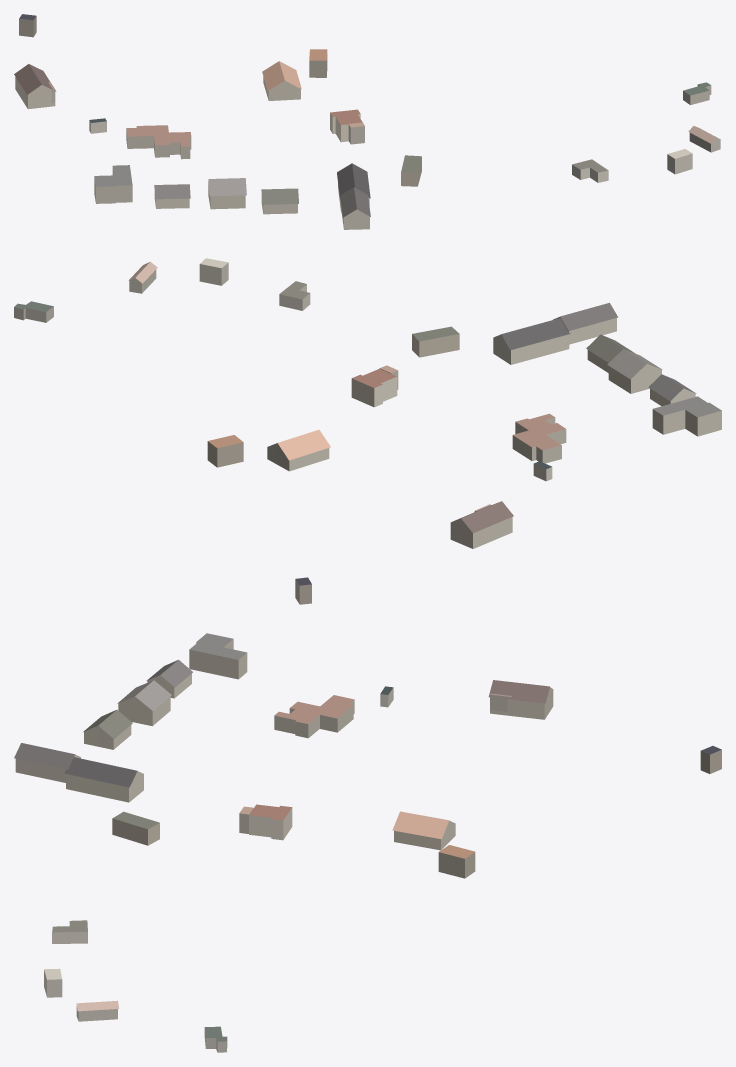
3 views of the same model, one above another, from view 1: azimuth 30°, elevation 25°; view 2: azimuth 150°, elevation 25°; view 3: azimuth 270°, elevation 25° (orthographic). The views are drawn at different scales.
Visible parts, largest first — view 1: tuile; view 2: tuile; view 3: tuile.
Boxes of the visible parts, x1=… form: tuile: x1=14, y1=14, x2=720, y2=229; tuile: x1=14, y1=258, x2=721, y2=604; tuile: x1=14, y1=633, x2=721, y2=1052.
Bounding box in the file's own units: 245 × 24.7 × 211.
